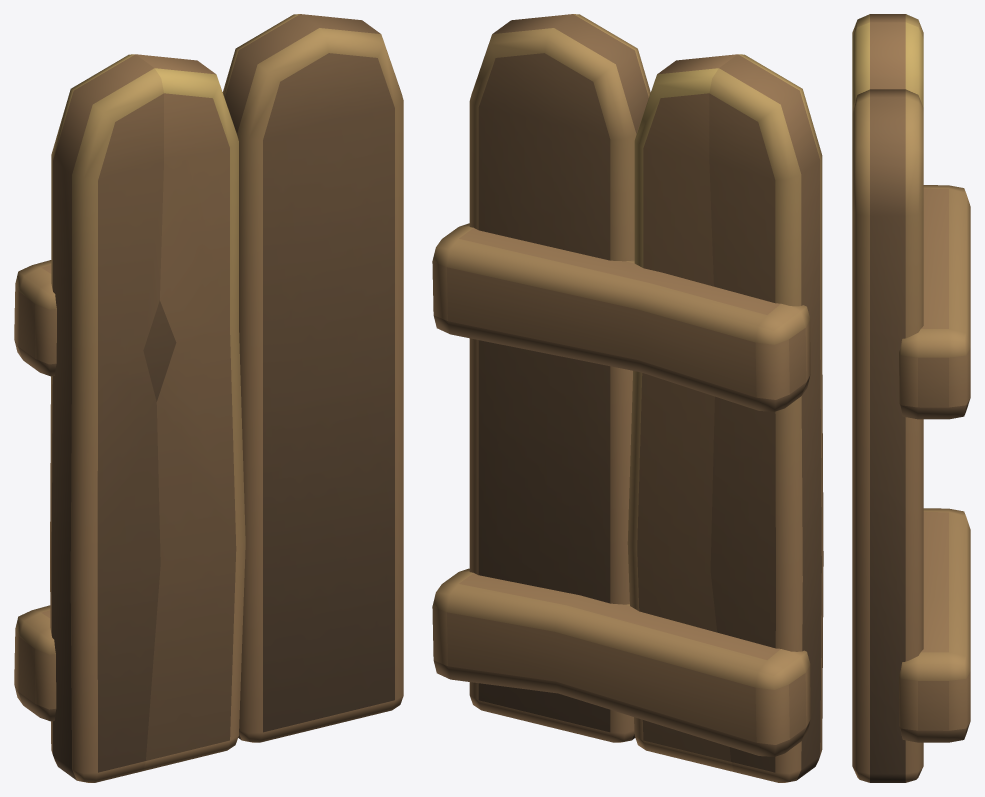
File: fence1_3_LOD_setup.fbx
3 renders of one model, left to right at view 1: azimuth 30°, elevation 25°; view 2: azimuth 150°, elevation 25°; view 3: azimuth 270°, elevation 25°, orthographic. The views are drawn at different scales.
Visible parts, largest first — view 1: fence1_3_LOD0; view 2: fence1_3_LOD0; view 3: fence1_3_LOD0.
Part boxes in pixels (left/top/right/bottom): fence1_3_LOD0: left=14, top=14, right=403, bottom=782; fence1_3_LOD0: left=432, top=14, right=823, bottom=782; fence1_3_LOD0: left=852, top=14, right=970, bottom=782.
Size of what is drawn, in the model's own units: 107 by 202 by 33.19.
